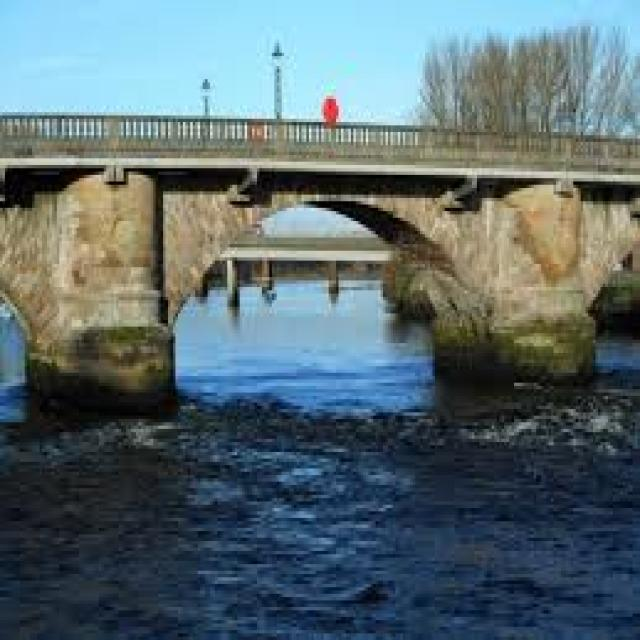Bridges: (4, 69, 640, 378)
